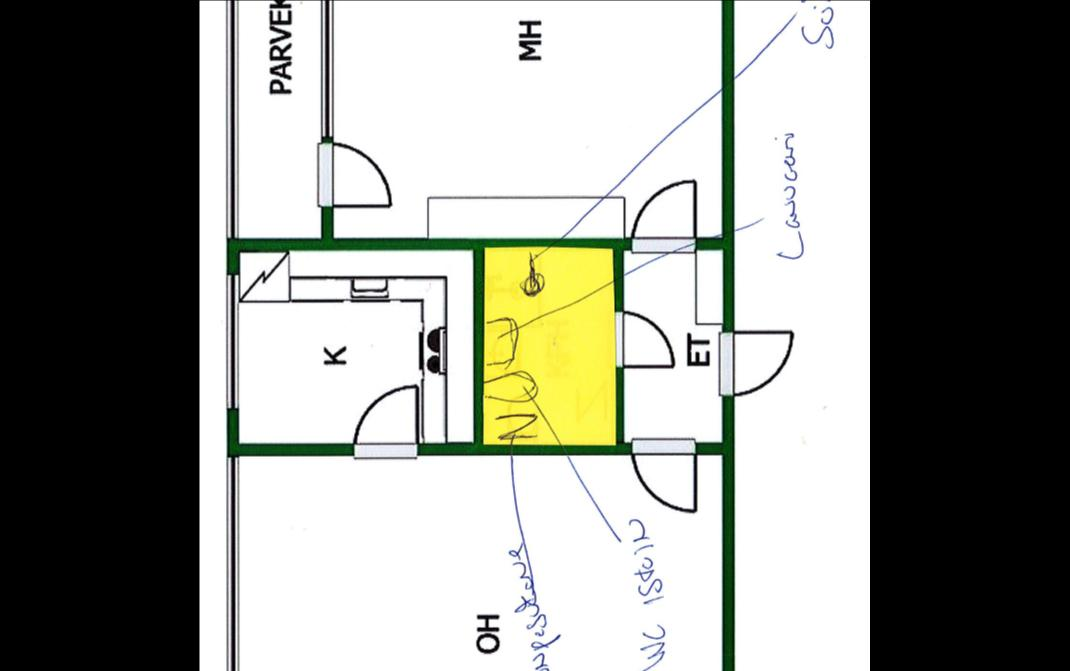door: (628, 174, 704, 253), (716, 327, 799, 399), (350, 381, 422, 462), (631, 434, 698, 520), (314, 140, 396, 208), (613, 310, 680, 370)
window: (222, 0, 243, 246), (221, 445, 241, 671), (222, 260, 242, 419), (315, 0, 336, 139)
